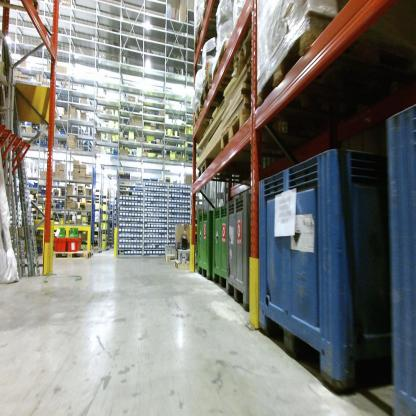pallet: (254, 19, 409, 104), (217, 107, 314, 155), (191, 156, 279, 186), (206, 38, 262, 77), (196, 71, 253, 107), (233, 25, 270, 80), (197, 3, 245, 36), (192, 26, 237, 61), (189, 104, 224, 135), (50, 249, 98, 264), (171, 259, 205, 277), (1, 1, 45, 14), (162, 246, 175, 266)
small_load_carrier: (67, 234, 85, 254), (51, 235, 69, 255)
